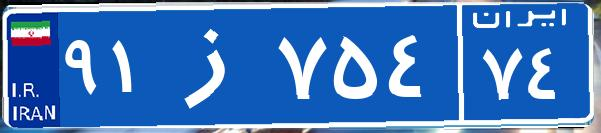1: (110, 28, 158, 105)
4: (385, 28, 445, 110), (525, 38, 570, 115)
5: (330, 28, 385, 110)
7: (273, 28, 330, 110), (475, 38, 525, 113)
9: (57, 26, 110, 107)
ز: (158, 15, 273, 115)
